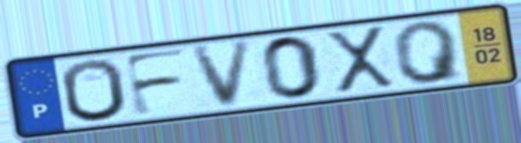0: (259, 34, 326, 103)
F: (120, 46, 191, 120)
O: (58, 57, 131, 125)
Q: (389, 18, 467, 87)
V: (188, 37, 258, 111)
X: (322, 24, 399, 97)
